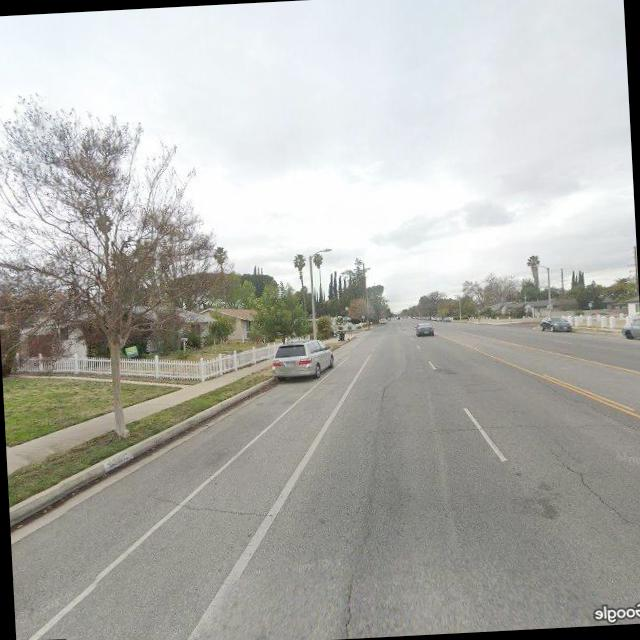crack: (362, 402, 640, 439), (551, 439, 640, 537), (173, 492, 277, 522)
